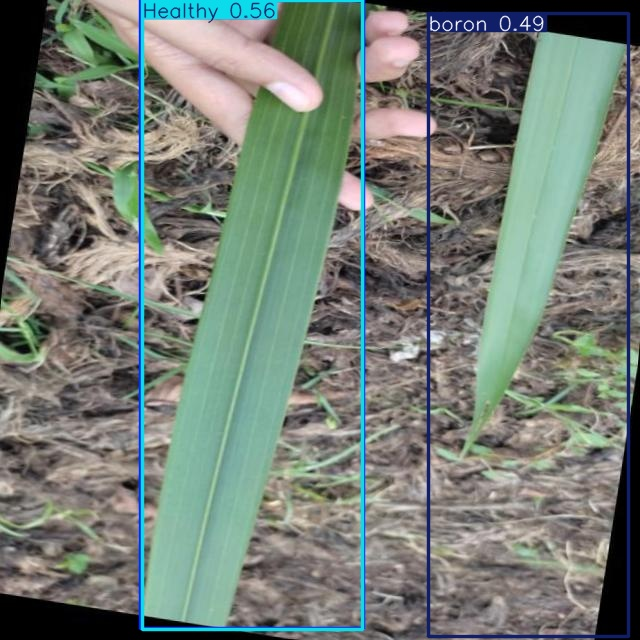Boron: (140, 1, 364, 628)
Healthy: (143, 1, 363, 630)
nitrogen: (428, 13, 629, 636)
